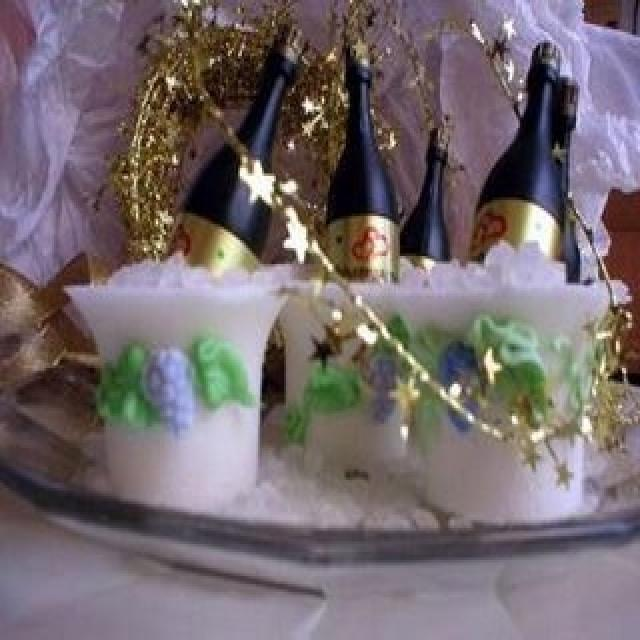bottle: (168, 18, 310, 266), (470, 37, 568, 264), (322, 37, 402, 283), (402, 120, 454, 267), (562, 77, 580, 283)
